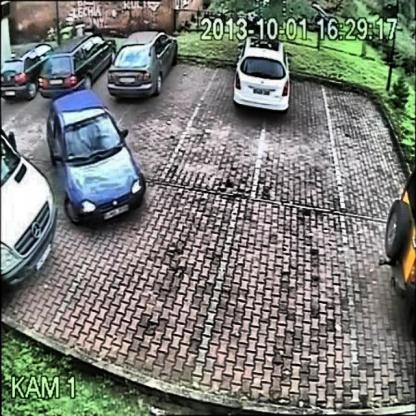free: (248, 235, 338, 393), (120, 232, 202, 368), (325, 72, 384, 150), (187, 55, 223, 115)
occupied: (0, 130, 55, 300), (236, 32, 292, 120), (112, 20, 171, 98), (45, 29, 99, 91), (0, 32, 38, 103)
